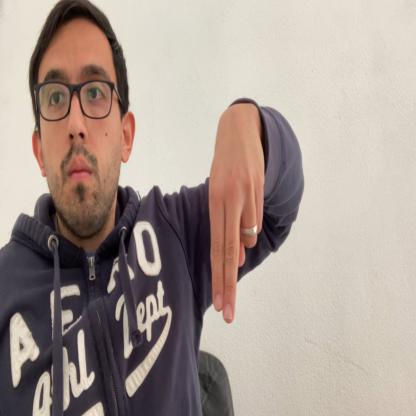N: (208, 103, 266, 323)
